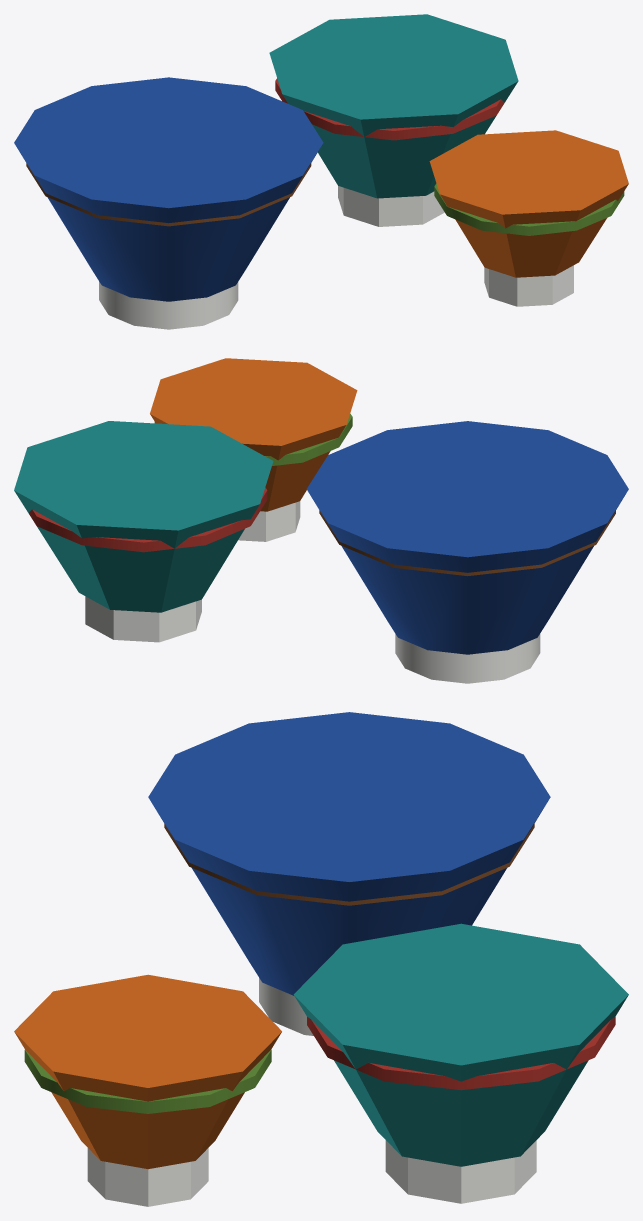
File: tableware_bowls.glb
The picture shows the model from 3 angles, top to bottom: view 1: azimuth 30°, elevation 25°; view 2: azimuth 150°, elevation 25°; view 3: azimuth 270°, elevation 25°; orthographic projection. The views are drawn at different scales.
Parts seen in each view (by area): view 1: tableware_bowls; view 2: tableware_bowls; view 3: tableware_bowls.
Boxes of the visible parts, x1=… form: tableware_bowls: x1=14, y1=14, x2=628, y2=329; tableware_bowls: x1=14, y1=358, x2=628, y2=683; tableware_bowls: x1=14, y1=712, x2=628, y2=1206.
Size of the model in its own units: 0.345 by 0.101 by 0.275.
